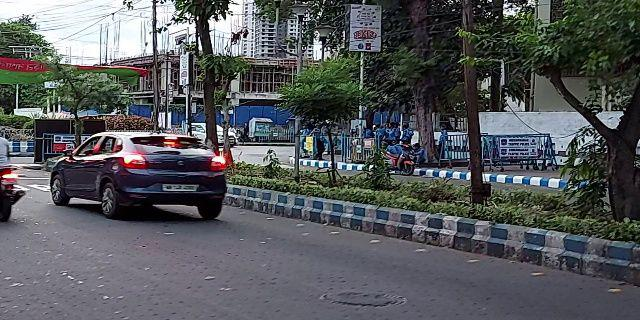Car: (55, 131, 243, 222)
